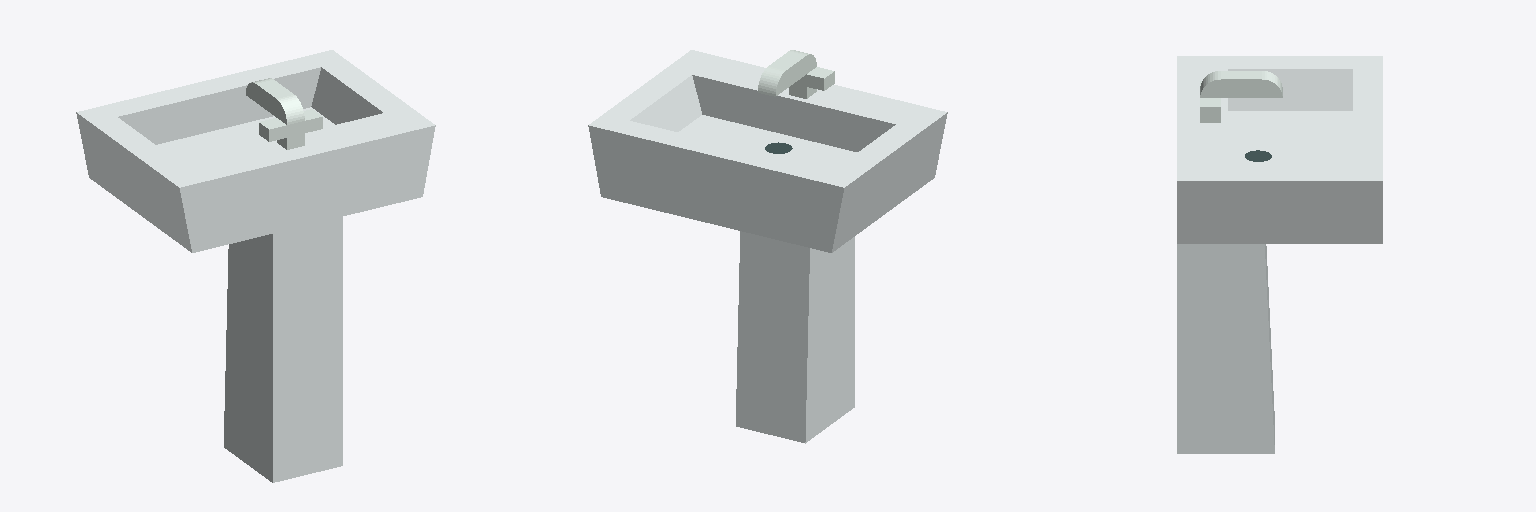
File: bathroomSinkSquare.obj
The picture shows the model from 3 angles: view 1: azimuth 30°, elevation 25°; view 2: azimuth 150°, elevation 25°; view 3: azimuth 270°, elevation 25°; orthographic projection.
Parts seen in each view (by area): view 1: bathroomSinkSquare; view 2: bathroomSinkSquare; view 3: bathroomSinkSquare.
Part boxes in pixels (x1,y1,x2,y2): bathroomSinkSquare: (76,50,435,482); bathroomSinkSquare: (588,50,947,443); bathroomSinkSquare: (1177,56,1382,453).
Size of the model in its own units: 0.43 by 0.58 by 0.3.